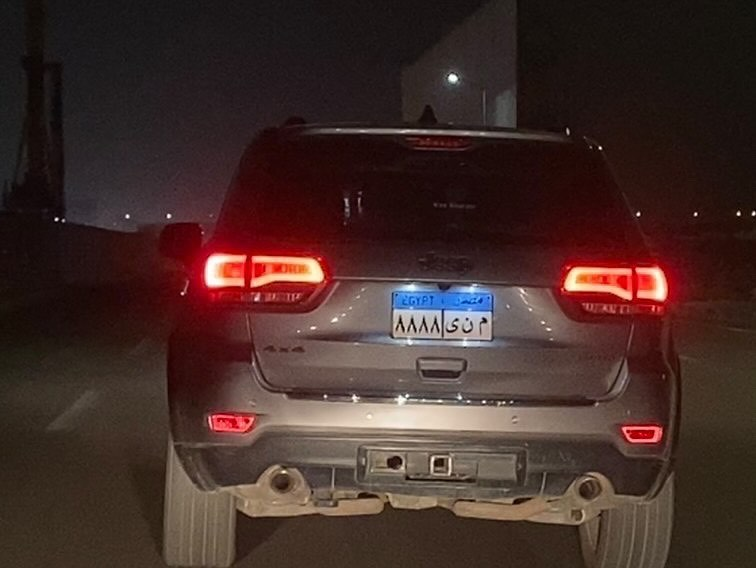carpl: (390, 290, 496, 346)
